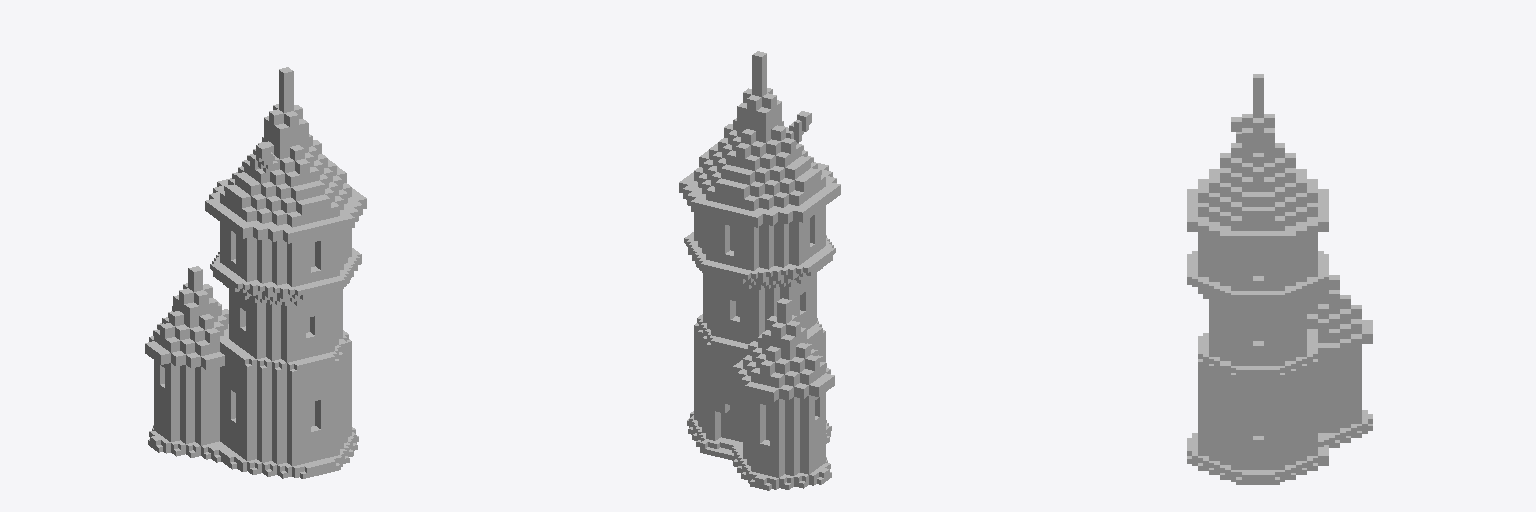
The model's file is Tower.obj.
3 renders of one model, left to right at view 1: azimuth 30°, elevation 25°; view 2: azimuth 150°, elevation 25°; view 3: azimuth 270°, elevation 25°, orthographic.
Visible parts, largest first — view 1: object 1; view 2: object 1; view 3: object 1.
Boxes of the visible parts, x1,y1,x2,y2 form: object 1: [145, 67, 366, 478]; object 1: [679, 51, 840, 490]; object 1: [1187, 74, 1372, 484].
Bounding box in the file's own units: 3.4 × 7.6 × 3.4.